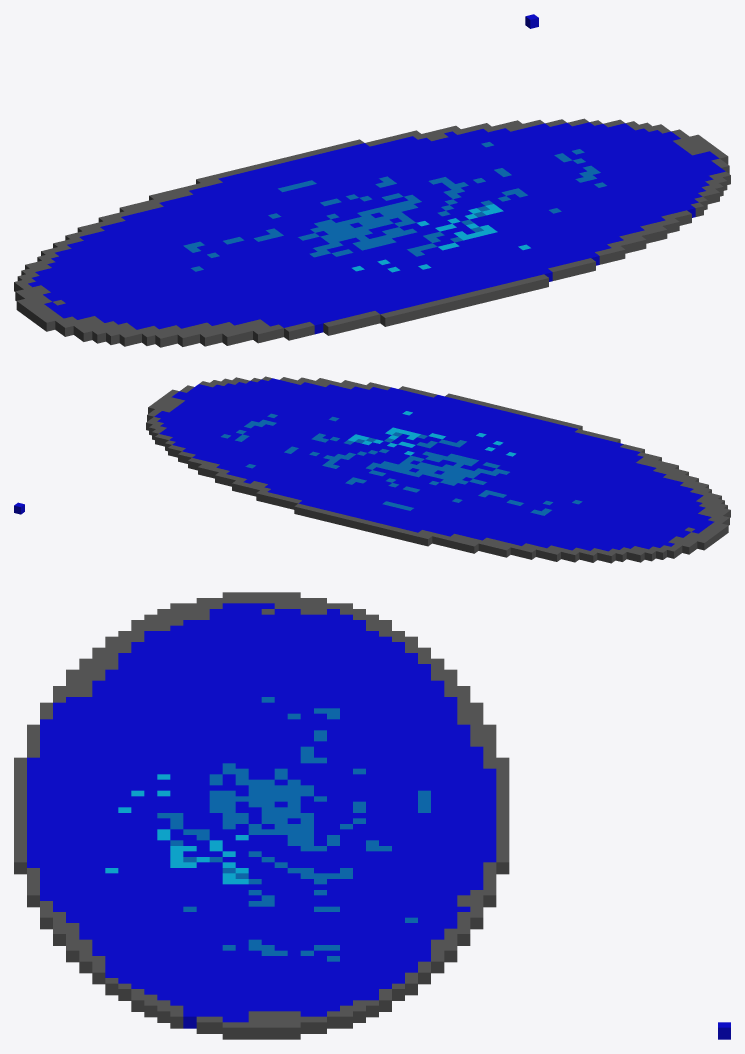
The model's file is lake.obj.
The picture shows the model from 3 angles, top to bottom: view 1: azimuth 30°, elevation 25°; view 2: azimuth 150°, elevation 25°; view 3: azimuth 270°, elevation 25°; orthographic projection. The views are drawn at different scales.
Size of the model in its own units: 7.9 by 0.1 by 5.5.
Materials: 1 (1 with a texture image).
